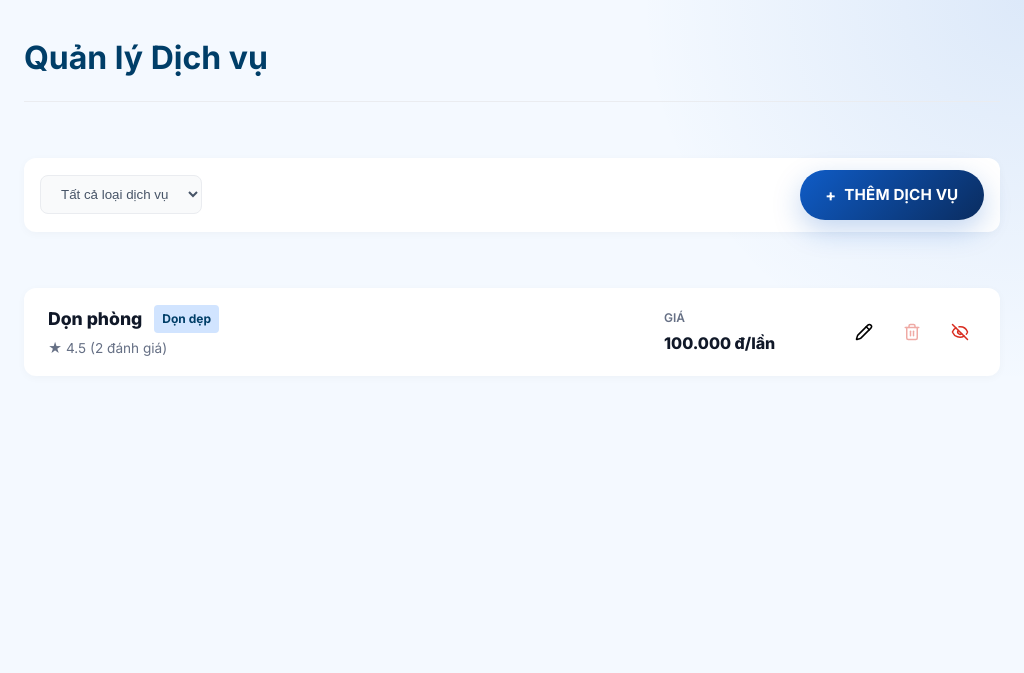
ServiceManagement › bật checkbox "nhiều lựa chọn giá" hiện editor lựa chọn thay vì ô Giá/Đơn vị tính, KHÔNG cần đổi category
This screenshot has width=1024, height=673.
Expected: the text "Dọn phòng" is shown, [48,304,142,333]
Click the button "+ THÊM DỊCH VỤ": point(892, 195) [800,170,984,220]
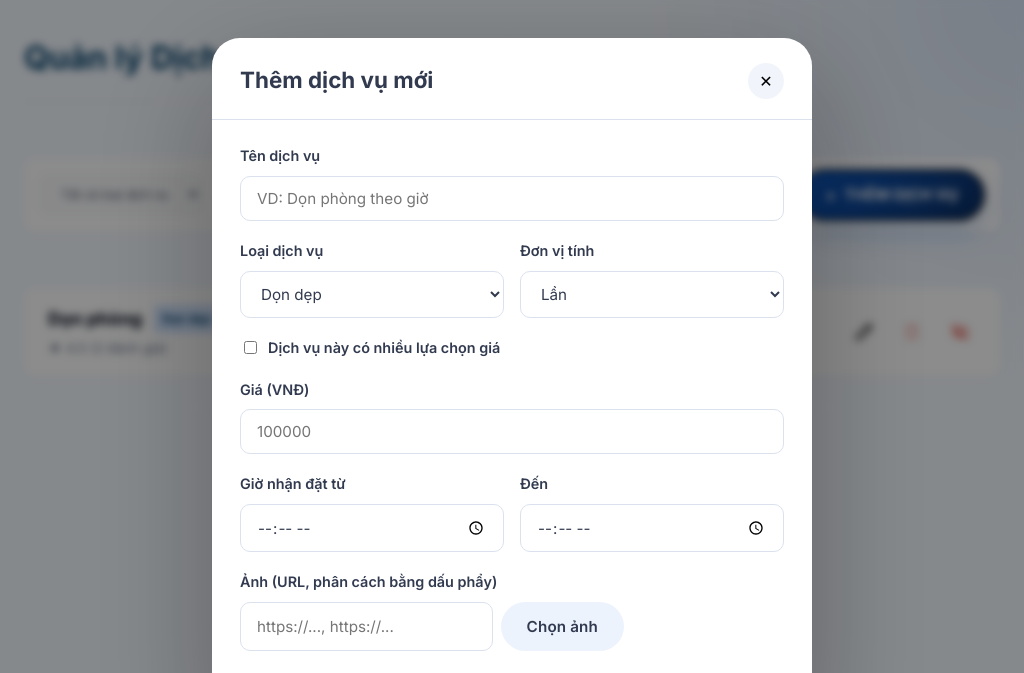
Click the checkbox labelled "Dịch vụ này có nhiều lựa chọn giá": point(250, 348) [244,341,257,354]
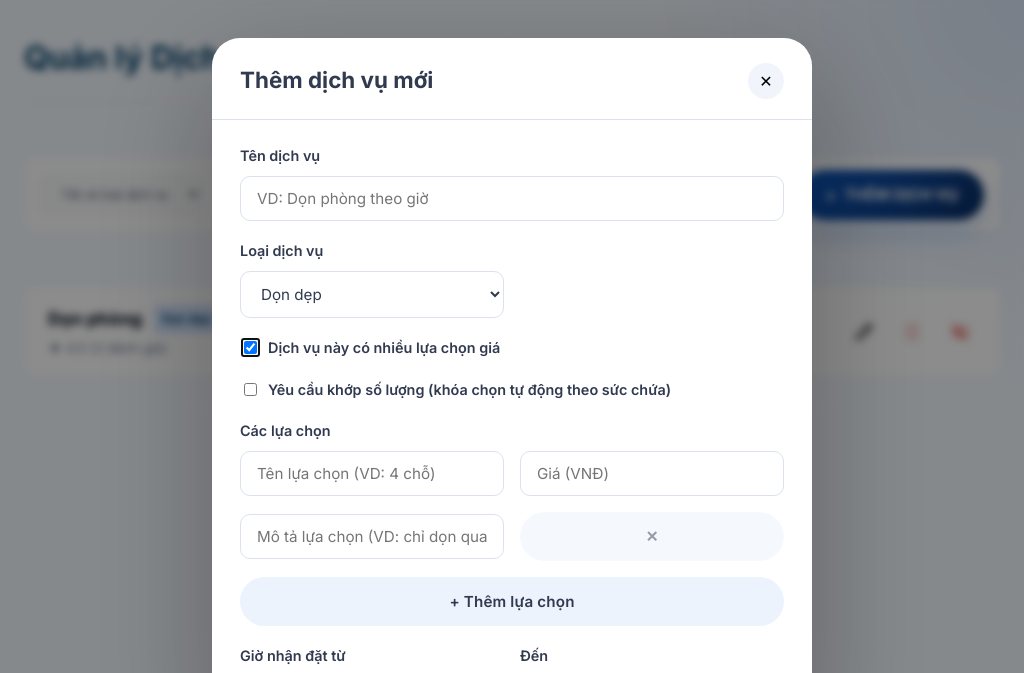
Expected: the dropdown labelled "Loại dịch vụ" shows "Dọn dẹp", [240,271,504,318]
Expected: the text "Các lựa chọn" is shown, [240,422,331,439]
Expected: the field with placeholder "Tên lựa chọn (VD: 4 chỗ)" is shown, [240,451,504,496]
